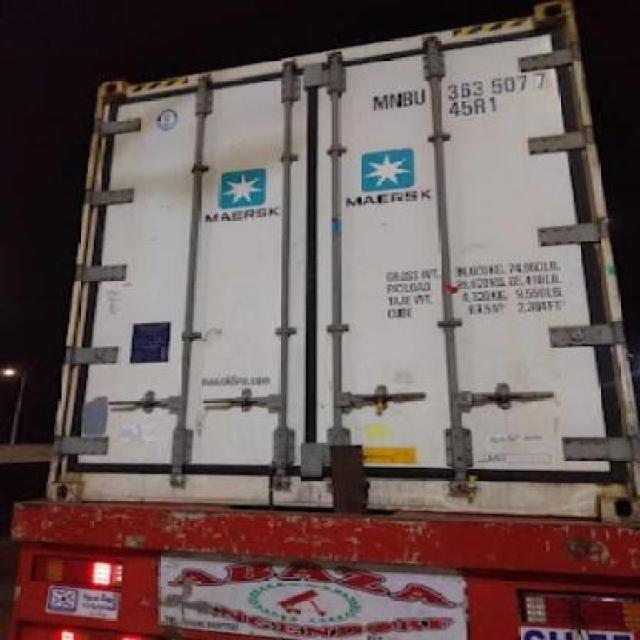ISO: (450, 95, 500, 124)
container_number: (374, 62, 552, 108)
